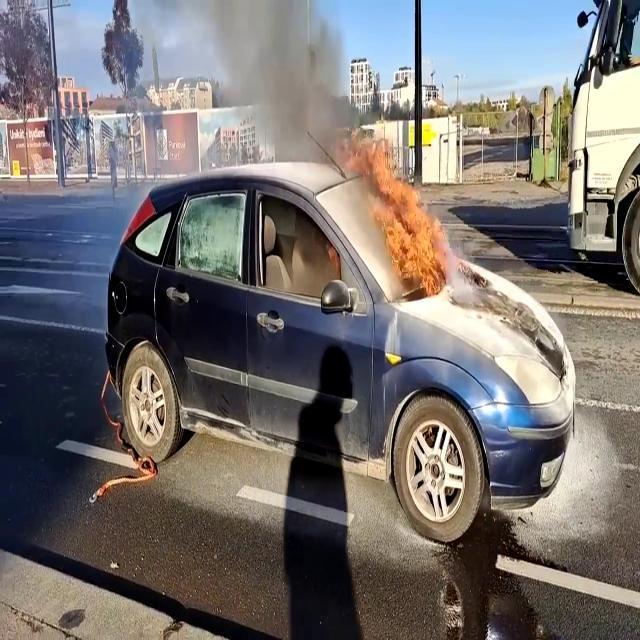Fire: (374, 162, 452, 292)
Smoke: (192, 0, 376, 186)
